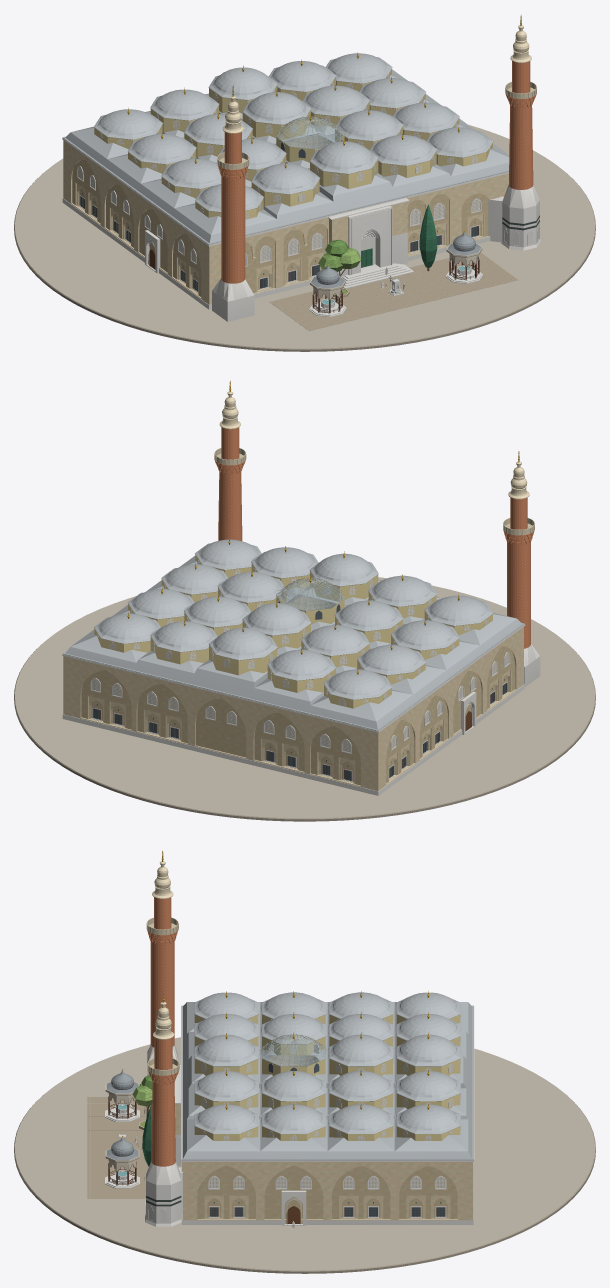
Rendered from ulu-cami_v26_sunum.glb.
3 views of the same model, one above another, from view 1: azimuth 30°, elevation 25°; view 2: azimuth 150°, elevation 25°; view 3: azimuth 270°, elevation 25° (orthographic).
Parts seen in each view (by area): view 1: Zemin_Kaide, Kubbeler_19, Cati, Cephe_Kuzey, Cephe_Dogu, Minare_1, Zemin_Avlu_Tas, Minare_2, Pencere_Girintileri, Tac_Kapi, Sadirvan_Kubbe, Giris_Cikintili_Blok (+10 smaller); view 2: Zemin_Kaide, Kubbeler_19, Cephe_Guney, Cati, Cephe_Dogu, Pencere_Girintileri, Minare_2, Minare_1, Mermer_Bant, Sadirvan_Kubbe, Kasnak_Pencereleri, Silme_Ust (+2 smaller); view 3: Zemin_Kaide, Kubbeler_19, Cephe_Bati, Cati, Minare_1, Zemin_Avlu_Tas, Minare_2, Pencere_Girintileri, Sadirvan_Kubbe, Kasnak_Pencereleri, Mermer_Bant, Avlu_Sadirvan_Bati (+5 smaller).
Part boxes in pixels (<box>): Zemin_Kaide: <box>14,124,595,351</box>; Kubbeler_19: <box>94,53,493,219</box>; Cati: <box>62,69,509,244</box>; Cephe_Kuzey: <box>208,173,508,304</box>; Cephe_Dogu: <box>64,141,208,304</box>; Minare_1: <box>488,14,540,250</box>; Zemin_Avlu_Tas: <box>269,252,517,331</box>; Minare_2: <box>212,85,254,321</box>; Pencere_Girintileri: <box>76,182,484,295</box>; Tac_Kapi: <box>342,206,413,288</box>; Sadirvan_Kubbe: <box>276,117,344,162</box>; Giris_Cikintili_Blok: <box>328,198,409,277</box>; Zemin_Kaide: <box>14,577,595,821</box>; Kubbeler_19: <box>94,539,493,708</box>; Cephe_Guney: <box>63,656,378,790</box>; Cati: <box>63,556,524,731</box>; Cephe_Dogu: <box>379,627,523,790</box>; Pencere_Girintileri: <box>87,669,511,783</box>; Minare_2: <box>503,451,540,686</box>; Minare_1: <box>214,381,246,541</box>; Mermer_Bant: <box>62,684,524,795</box>; Sadirvan_Kubbe: <box>276,578,344,624</box>; Kasnak_Pencereleri: <box>97,560,488,706</box>; Silme_Ust: <box>62,624,525,732</box>; Zemin_Kaide: <box>14,1037,595,1273</box>; Kubbeler_19: <box>194,992,460,1140</box>; Cephe_Bati: <box>183,1162,471,1223</box>; Cati: <box>181,1002,473,1160</box>; Minare_1: <box>145,991,182,1226</box>; Zemin_Avlu_Tas: <box>87,1097,150,1198</box>; Minare_2: <box>146,850,178,1075</box>; Pencere_Girintileri: <box>204,1195,450,1218</box>; Sadirvan_Kubbe: <box>261,1035,325,1075</box>; Kasnak_Pencereleri: <box>201,1014,460,1140</box>; Mermer_Bant: <box>181,1162,473,1224</box>; Avlu_Sadirvan_Bati: <box>105,1136,139,1188</box>.
Bounding box in the file's own units: 111 × 48.52 × 111.
Materials: 45 (10 with a texture image).
